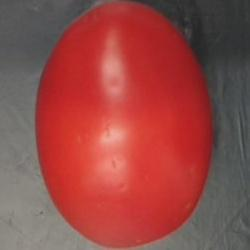unripe: (32, 0, 218, 250)
